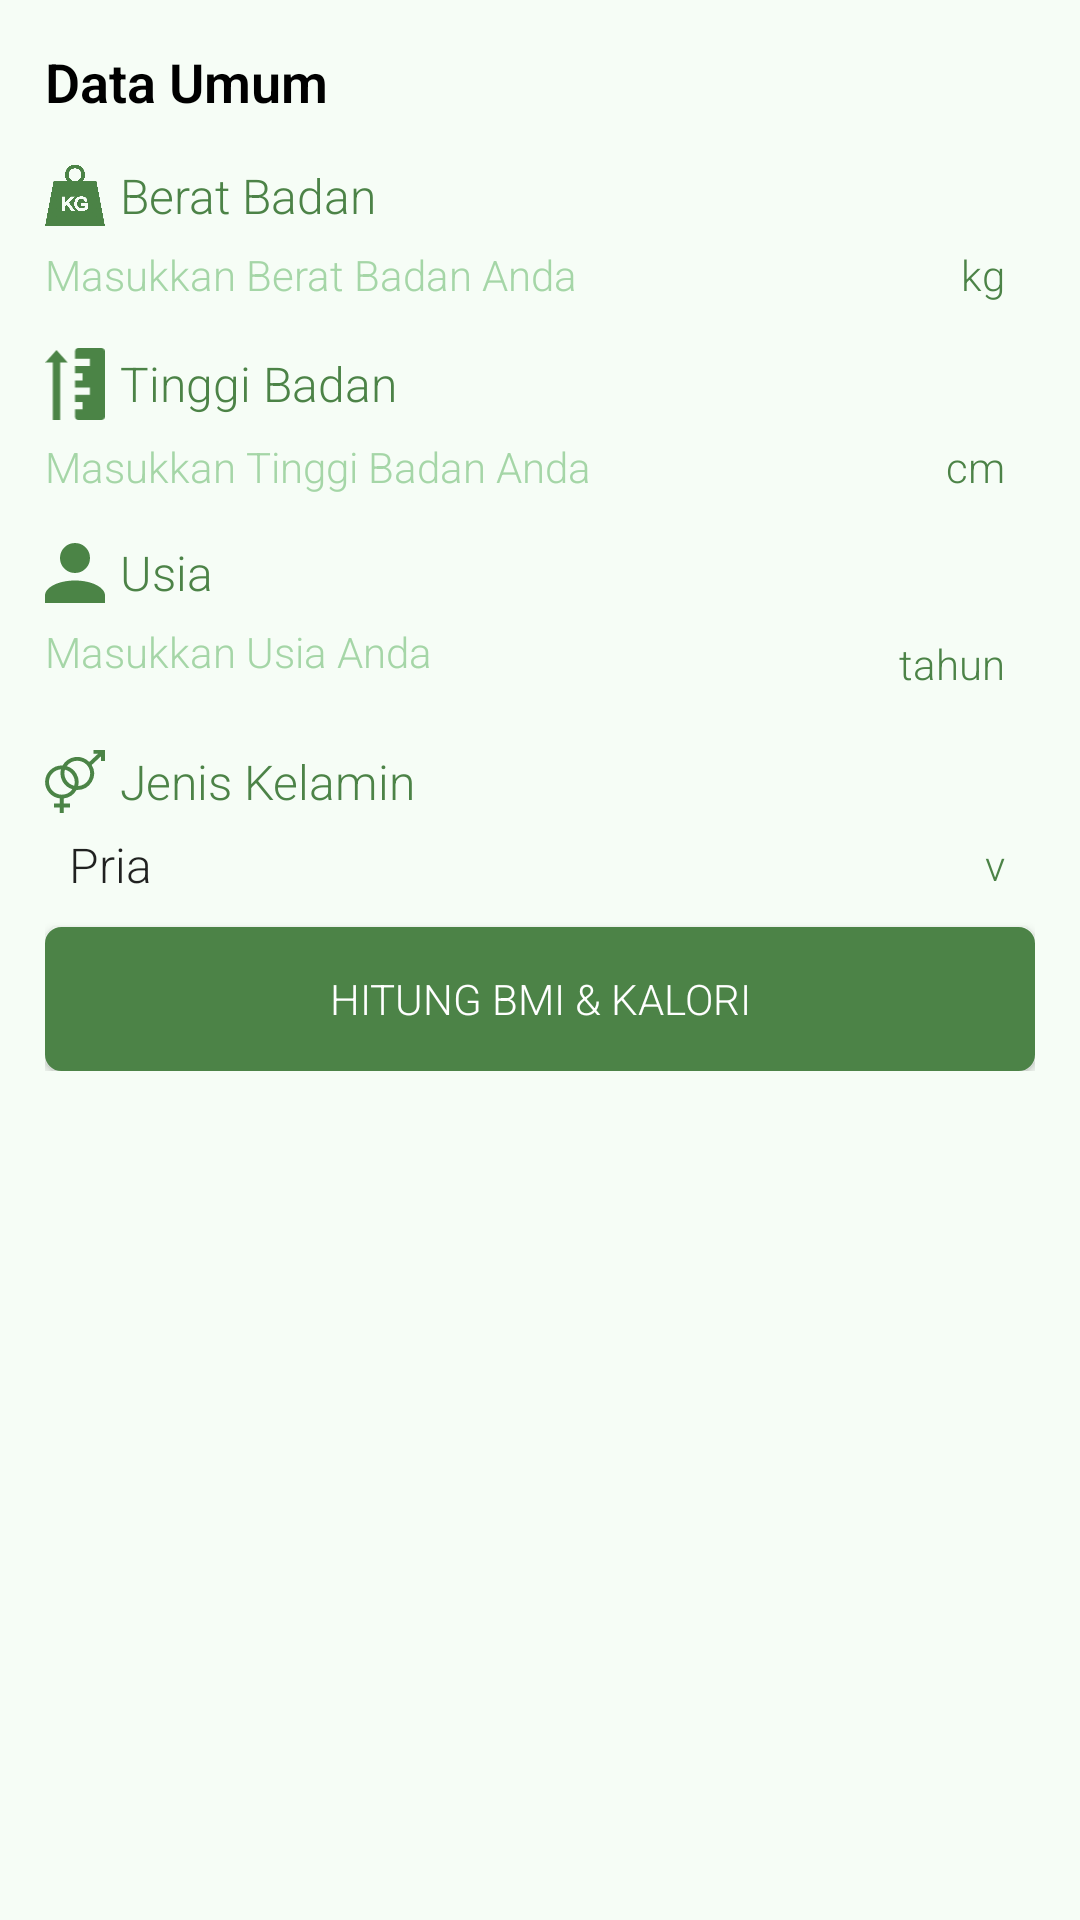

Icon bounding boxes for this 1080 x 1920 phone screenshot, format (x1,y1,x2,y2):
profile: (45,543,105,603)
